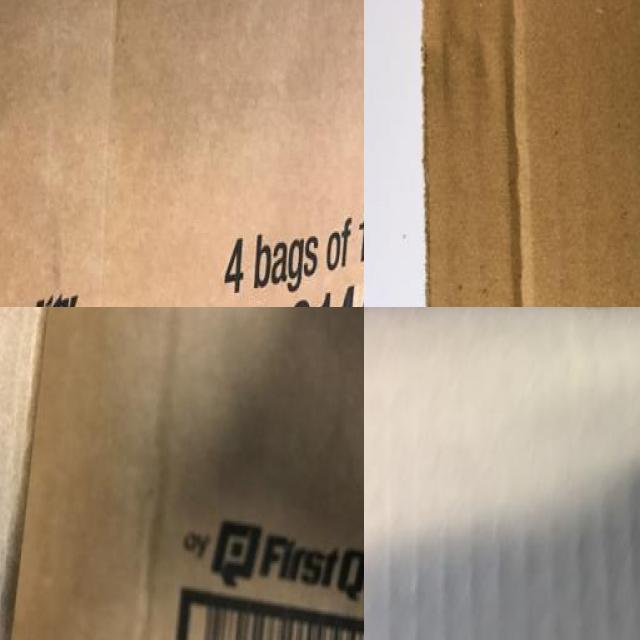class_name: (0, 307, 364, 640), (0, 0, 364, 307), (364, 307, 640, 640), (421, 0, 640, 307)
